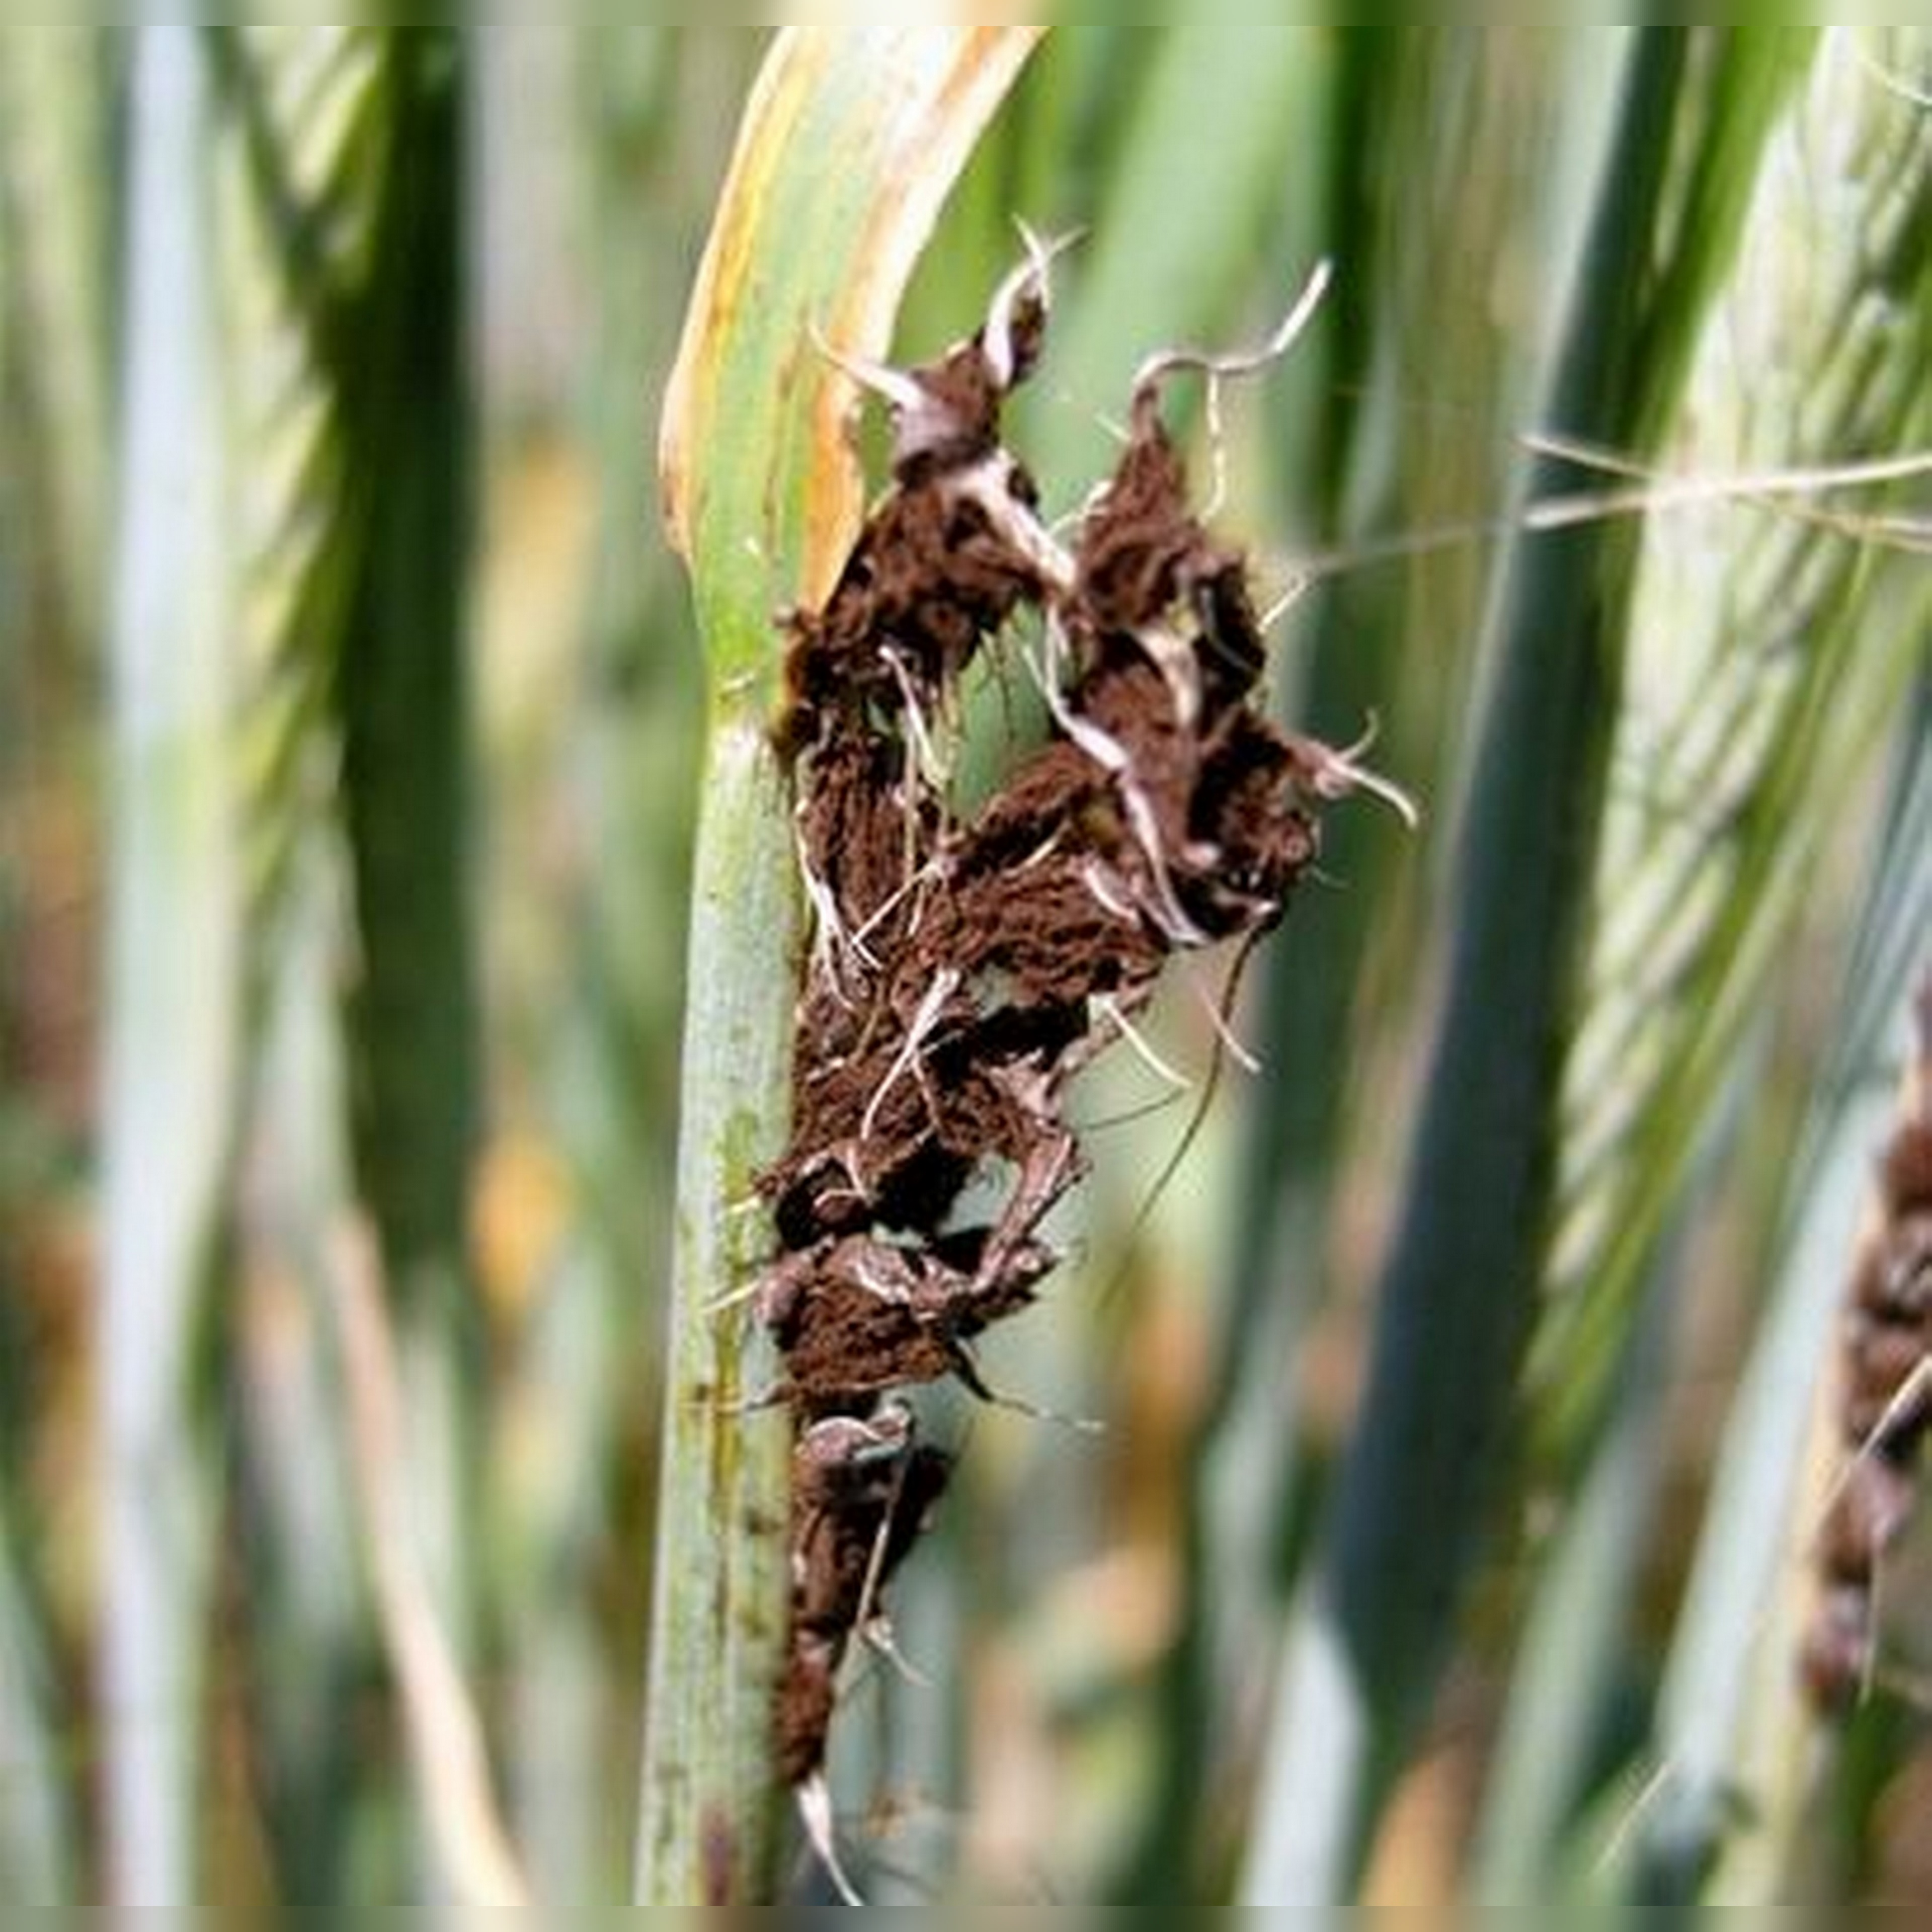Wheat Loose Smut: (701, 347, 1307, 1714)
